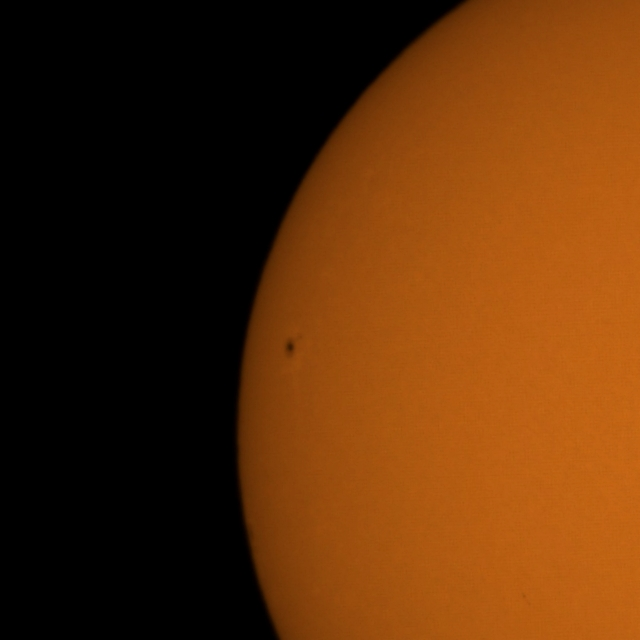sunspot: (283, 331, 304, 359)
